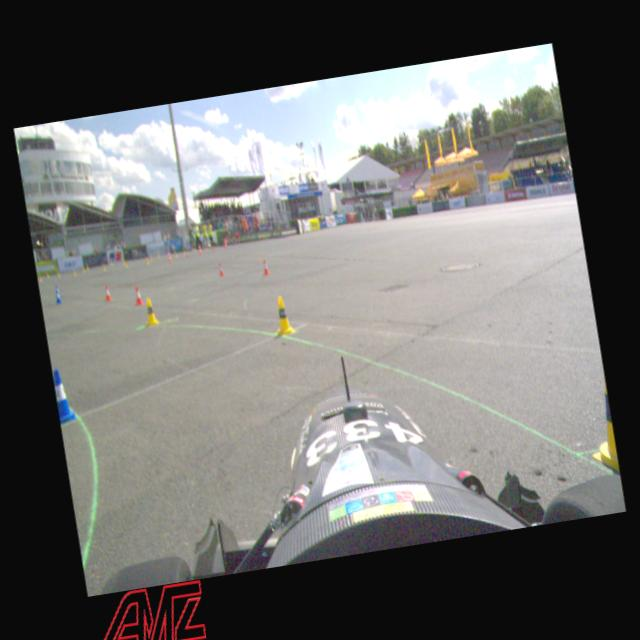blue_cone: (52, 365, 74, 425), (54, 290, 62, 304)
orange_cone: (132, 284, 144, 308), (102, 283, 113, 304), (260, 260, 270, 276), (217, 262, 226, 278)
yellow_cone: (580, 372, 618, 470), (269, 292, 295, 337), (142, 296, 160, 328)
